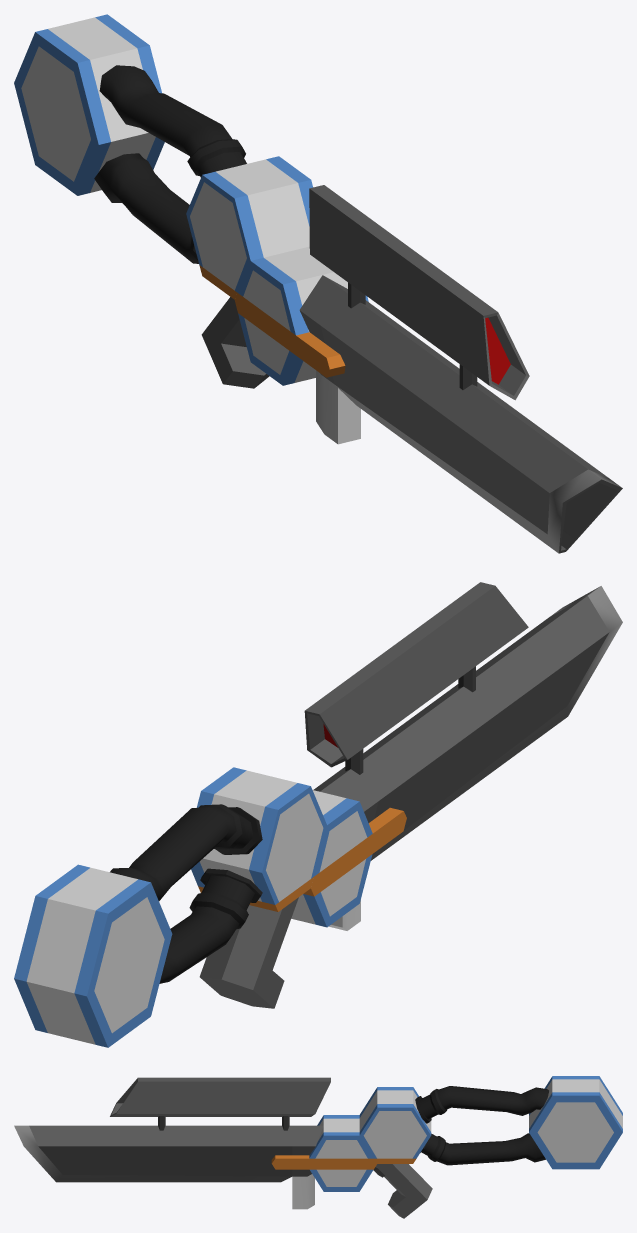
File: gun_rifle_asset.fbx
3 renders of one model, top to bottom at view 1: azimuth 30°, elevation 25°; view 2: azimuth 150°, elevation 25°; view 3: azimuth 270°, elevation 25°, orthographic. The views are drawn at different scales.
Parts seen in each view (by area): view 1: polySurface32; view 2: polySurface32; view 3: polySurface32.
Part boxes in pixels (x1,y1,x2,y2): polySurface32: [14, 14, 622, 553]; polySurface32: [14, 582, 622, 1047]; polySurface32: [14, 1076, 622, 1218].
Size of the model in its own units: 11.36 by 34.86 by 141.
